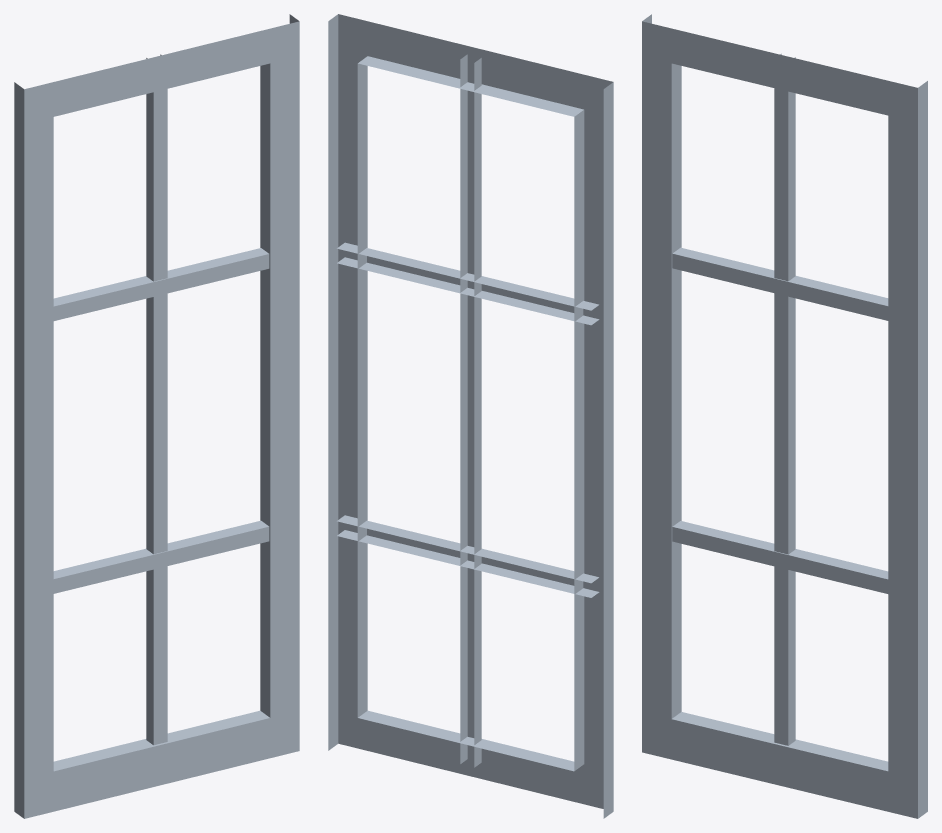
File: windows002.fbx
3 renders of one model, left to right at view 1: azimuth 30°, elevation 25°; view 2: azimuth 150°, elevation 25°; view 3: azimuth 330°, elevation 25°, orthographic.
Visible parts, largest first — view 1: Wind002; view 2: Wind002; view 3: Wind002.
Part boxes in pixels (bbox=[...]): Wind002: bbox=[14, 14, 299, 818]; Wind002: bbox=[328, 14, 613, 818]; Wind002: bbox=[642, 14, 927, 818].
Size of the model in its own units: 85.86 by 218 by 5.4.
